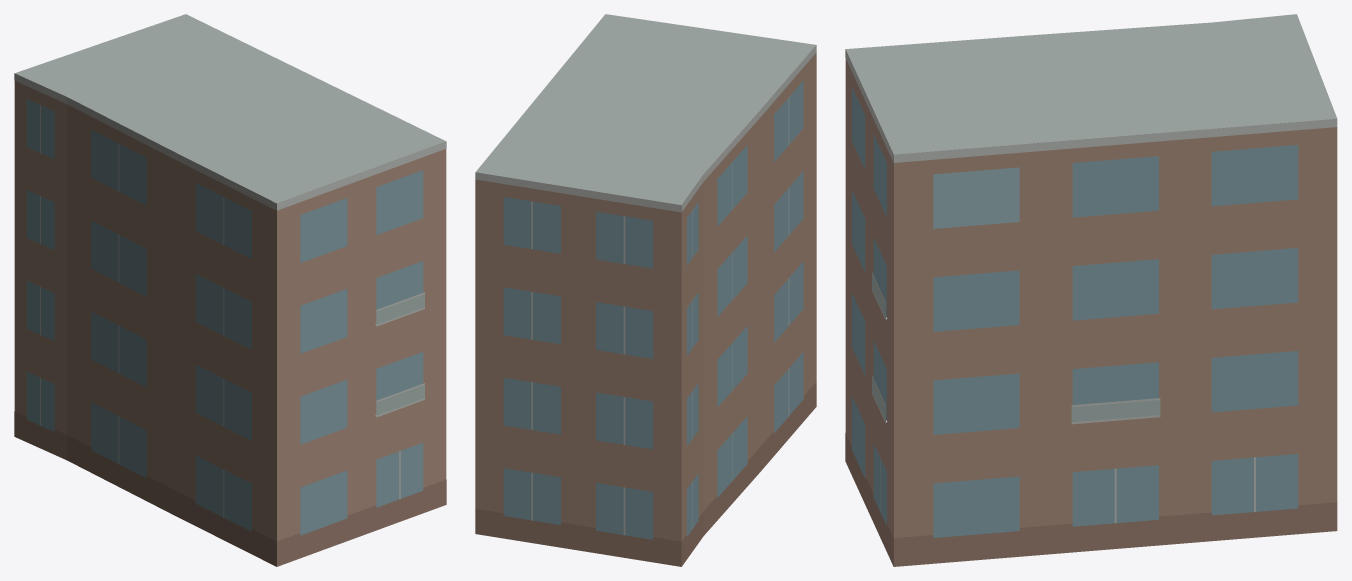
The model's file is survey-upis-32960721.glb.
3 renders of one model, left to right at view 1: azimuth 30°, elevation 25°; view 2: azimuth 150°, elevation 25°; view 3: azimuth 270°, elevation 25°, orthographic. The views are drawn at different scales.
Visible parts, largest first — view 1: survey-upis-32960721.tmp; view 2: survey-upis-32960721.tmp; view 3: survey-upis-32960721.tmp.
Part boxes in pixels (<box>): survey-upis-32960721.tmp: <box>14,14,446,566</box>; survey-upis-32960721.tmp: <box>475,14,816,566</box>; survey-upis-32960721.tmp: <box>845,14,1337,566</box>.
Size of the model in its own units: 8.94 by 12.2 by 13.21.
